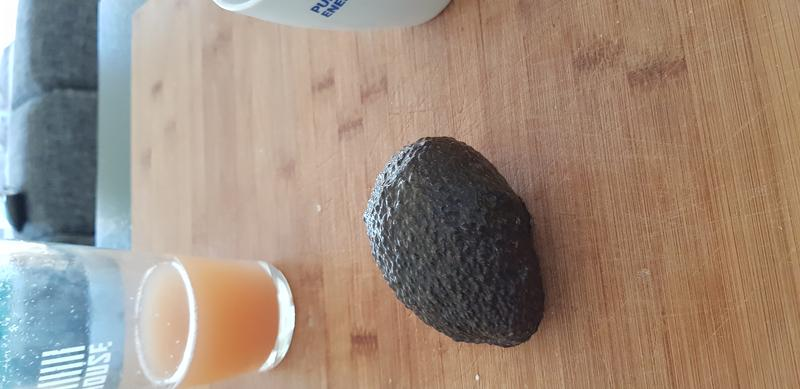Avocado: (355, 129, 546, 355)
